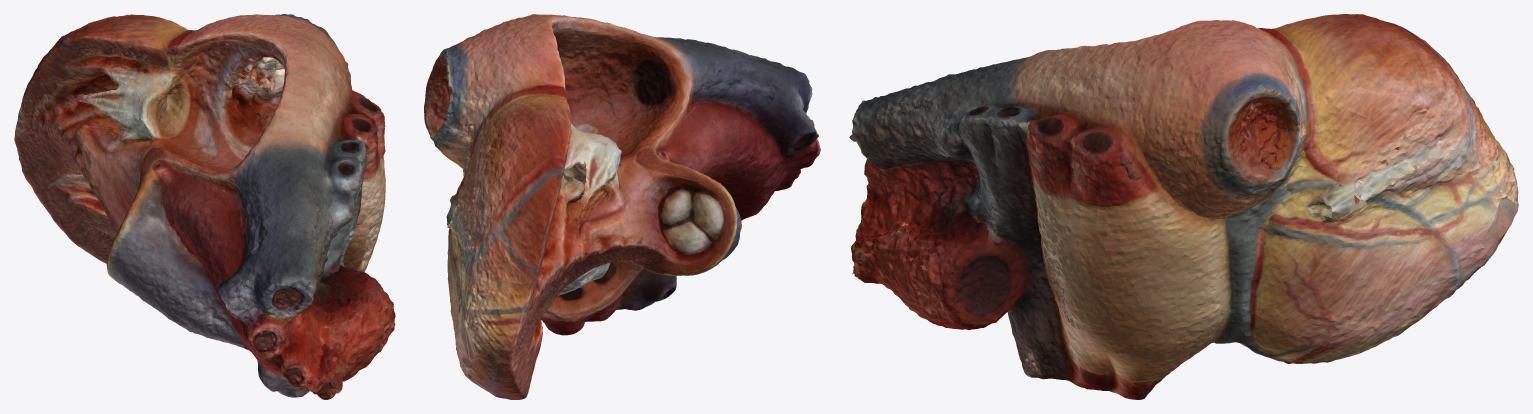
File: openheartLD1.obj
3 views of the same model, side by side, from view 1: azimuth 30°, elevation 25°; view 2: azimuth 150°, elevation 25°; view 3: azimuth 270°, elevation 25° (orthographic). The views are drawn at different scales.
Bounding box in the file's own units: 11.98 × 13.63 × 22.48.
1 material, 1 textured.
